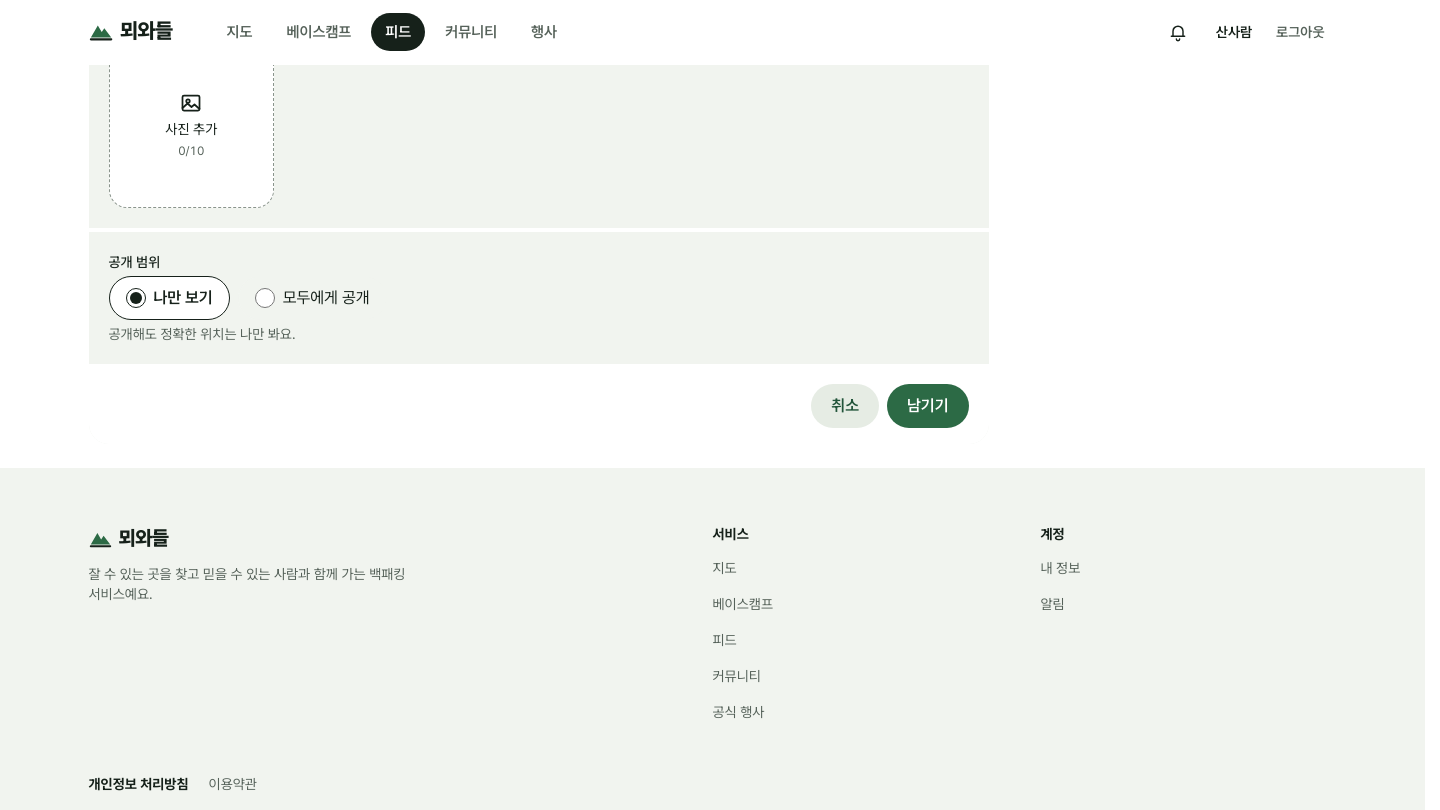
Test: 기록 남기기 화면: 저장할 때 › 저장하는 중에 다른 화면으로 간 뒤 연결이 끊기면 저장됐는지 확인하라는 안내와 내 기록 링크가 뜬다
(page scrolled)
Click the button "남기기".
click(928, 406)  # box [887, 384, 968, 428]
(page scrolled)
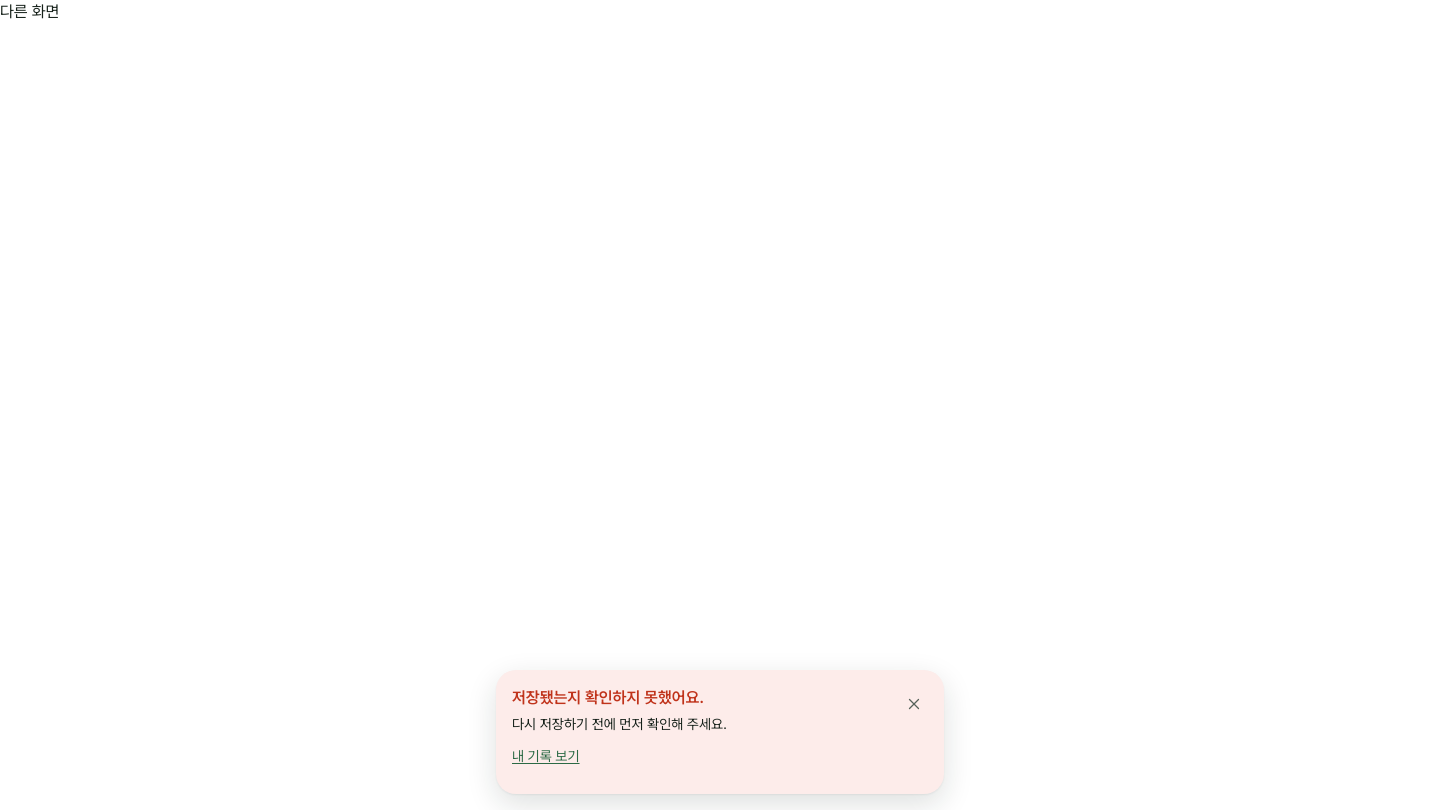
Expected: the message "저장됐는지 확인하지 못했어요. 다시 저장하기 전에 먼저 확인해 주세요. 내 기록 보기" is shown, [496, 670, 944, 794]
